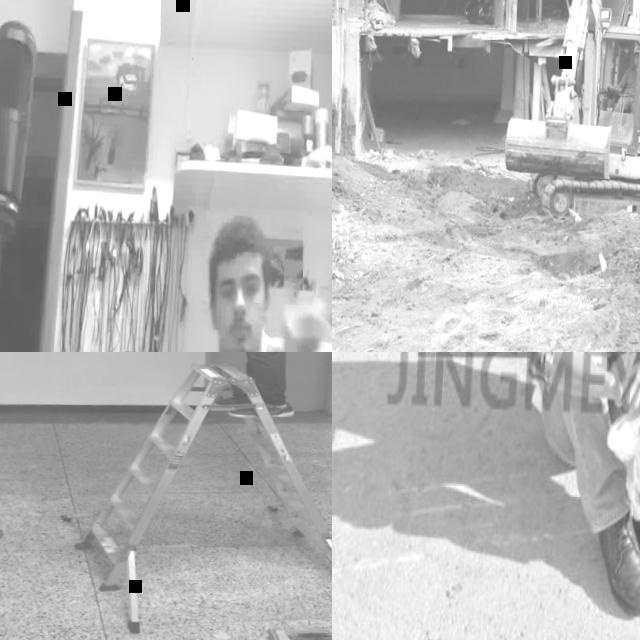NO-Hardhat: (210, 218, 270, 268), (632, 44, 640, 55)
NO-Mask: (217, 316, 261, 352), (635, 62, 640, 69)
NO-Safety Vest: (624, 67, 640, 97)
Person: (511, 352, 640, 621), (161, 211, 332, 352), (120, 352, 322, 421), (602, 44, 640, 134)
Safety Vest: (532, 352, 640, 421)
machinery: (503, 0, 640, 231)
